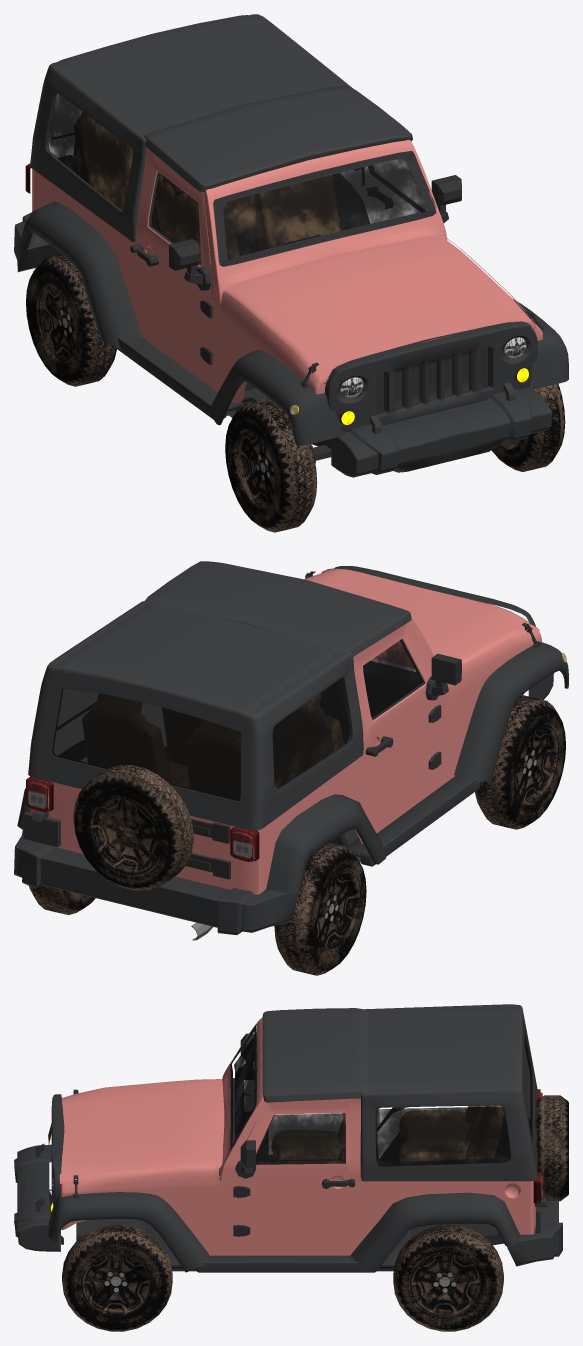
The model's file is jeep.glb.
The picture shows the model from 3 angles, top to bottom: view 1: azimuth 30°, elevation 25°; view 2: azimuth 150°, elevation 25°; view 3: azimuth 270°, elevation 25°; orthographic projection. The views are drawn at different scales.
Visible parts, largest first — view 1: trim, body, top, glass, top_front, wheel_fr, wheel_rr, seats, wheel_fl; view 2: trim, top, body, glass, top_front, wheel_rr, wheel_fr, seats, wheel_rl; view 3: body, trim, top, glass, top_front, wheel_rl, wheel_fl, seats, under.
Part boxes in pixels (bbox=[...]): trim: bbox=[14, 92, 568, 477]; body: bbox=[32, 140, 542, 403]; top: bbox=[30, 14, 364, 241]; glass: bbox=[47, 93, 427, 263]; top_front: bbox=[144, 86, 412, 191]; wheel_fr: bbox=[225, 398, 317, 532]; wheel_rr: bbox=[26, 254, 116, 386]; seats: bbox=[76, 112, 340, 264]; wheel_fl: bbox=[491, 383, 565, 471]; trim: bbox=[14, 566, 568, 940]; top: bbox=[28, 601, 363, 830]; body: bbox=[30, 568, 541, 894]; glass: bbox=[52, 640, 422, 800]; top_front: bbox=[142, 561, 411, 656]; wheel_rr: bbox=[274, 843, 366, 975]; wheel_fr: bbox=[475, 695, 565, 829]; seats: bbox=[273, 692, 343, 789]; wheel_rl: bbox=[29, 885, 95, 914]; body: bbox=[59, 1017, 535, 1255]; trim: bbox=[14, 1024, 568, 1272]; top: bbox=[360, 1004, 537, 1181]; glass: bbox=[234, 1032, 532, 1166]; top_front: bbox=[262, 1008, 367, 1102]; wheel_rl: bbox=[393, 1225, 503, 1331]; wheel_fl: bbox=[62, 1225, 172, 1331]; seats: bbox=[272, 1105, 503, 1164]; under: bbox=[76, 1219, 503, 1271].
Bounding box in the file's own units: 2.08 × 1.97 × 4.2.
14 materials, 4 textured.
